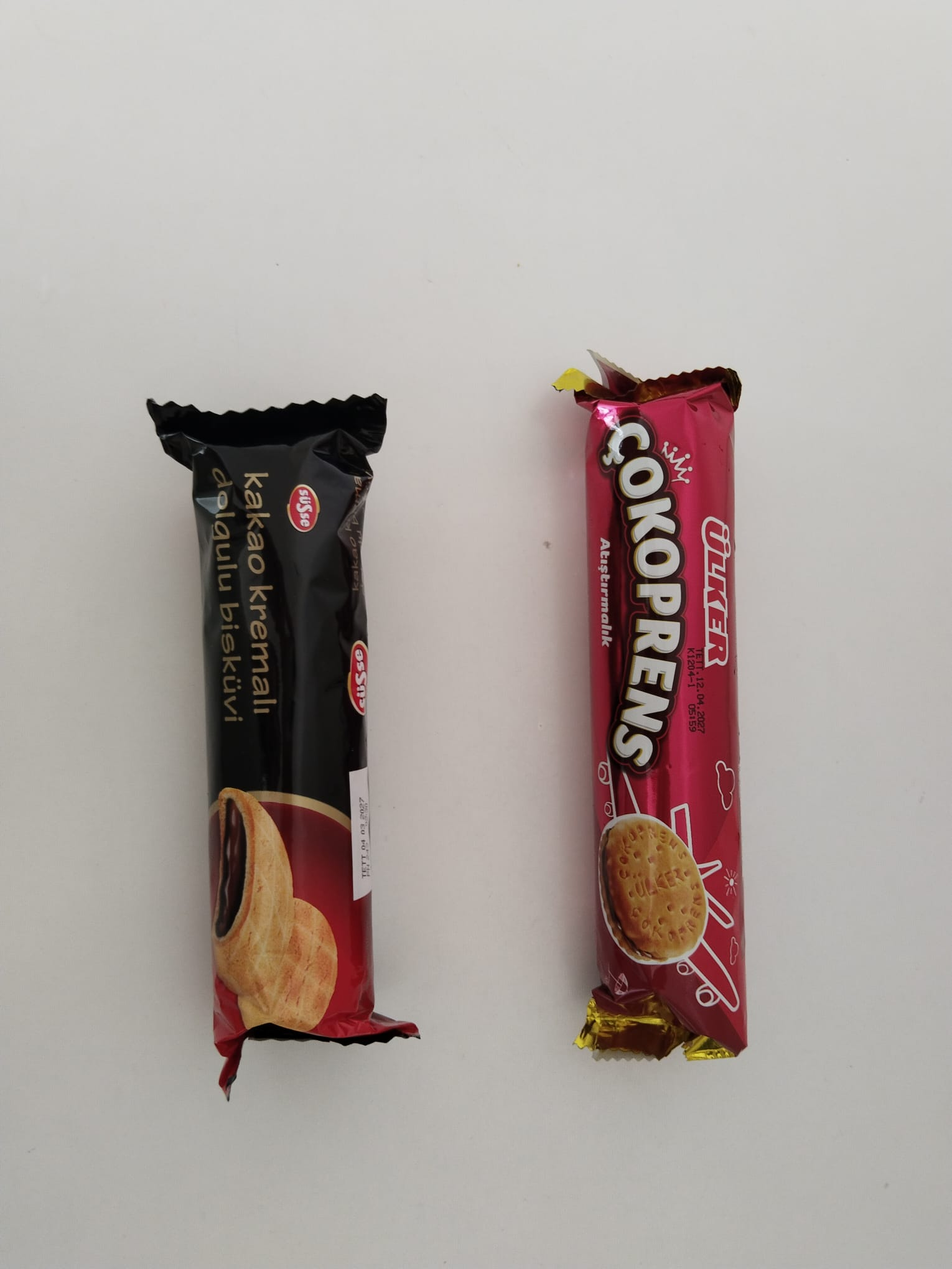susse_biskuvi: (149, 396, 413, 1092)
ulker_cokoprens_biskuvi: (554, 354, 746, 1056)
